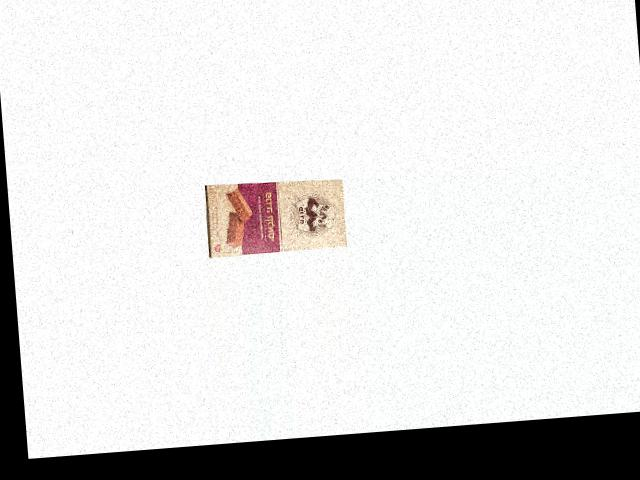chocolate: (203, 172, 348, 255)
